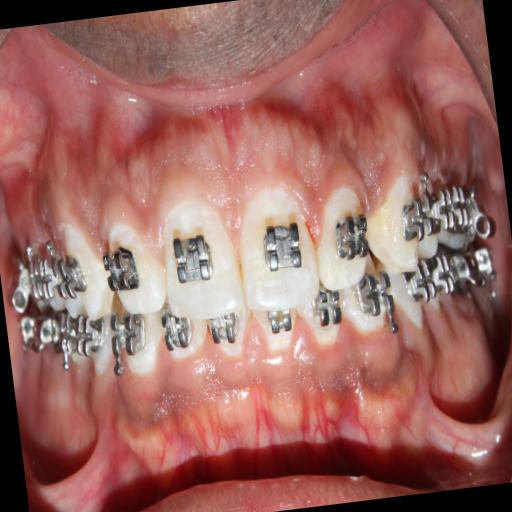correct_brace: (168, 222, 220, 294), (258, 212, 306, 276), (331, 208, 373, 264), (100, 248, 143, 302), (50, 249, 88, 303), (400, 192, 435, 244)
incorrect_brace: (309, 178, 375, 294), (103, 206, 171, 314)
